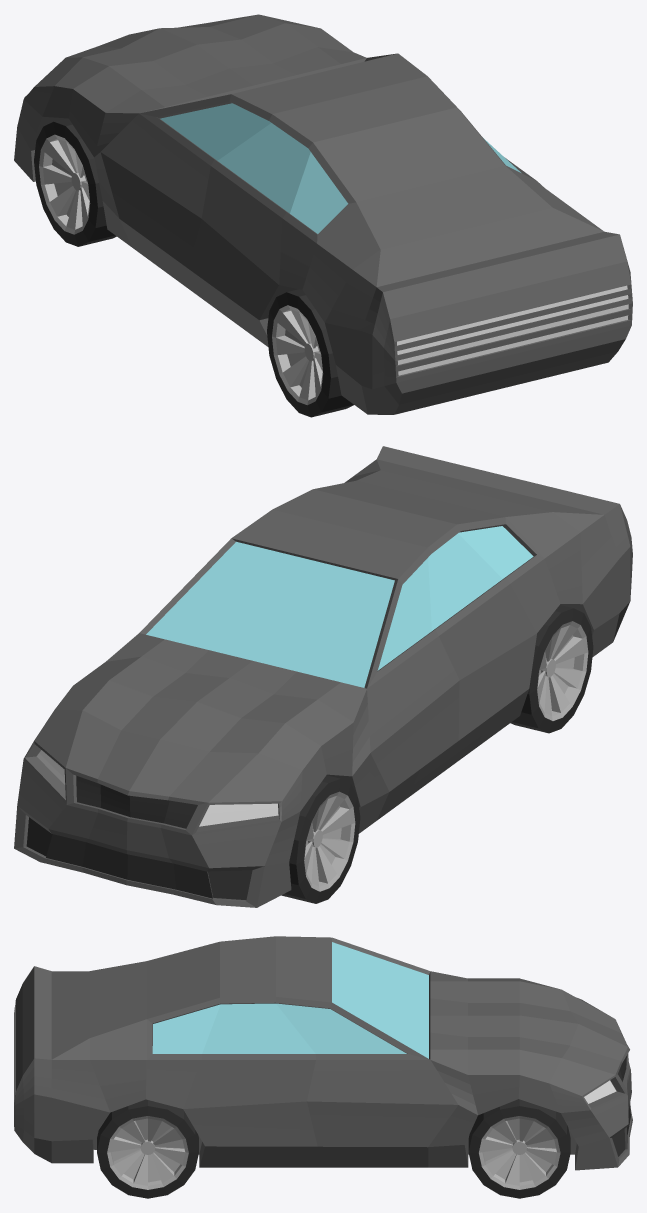
The model's file is cyber car 3.fbx.
3 renders of one model, top to bottom at view 1: azimuth 30°, elevation 25°; view 2: azimuth 150°, elevation 25°; view 3: azimuth 270°, elevation 25°, orthographic. The views are drawn at different scales.
Visible parts, largest first — view 1: Cube, Cube.004, Cube.003; view 2: Cube, Cube.003, Cube.004; view 3: Cube, Cube.002, Cube.001.
Boxes of the visible parts, x1=… form: Cube: x1=14, y1=14, x2=632, y2=414; Cube.004: x1=267, y1=289, x2=353, y2=417; Cube.003: x1=34, y1=118, x2=116, y2=246; Cube: x1=14, y1=446, x2=632, y2=907; Cube.003: x1=281, y1=775, x2=360, y2=903; Cube.004: x1=510, y1=605, x2=593, y2=733; Cube: x1=14, y1=936, x2=632, y2=1170; Cube.002: x1=468, y1=1099, x2=570, y2=1198; Cube.001: x1=97, y1=1099, x2=198, y2=1198.
Bounding box in the file's own units: 175 × 141 × 436.
